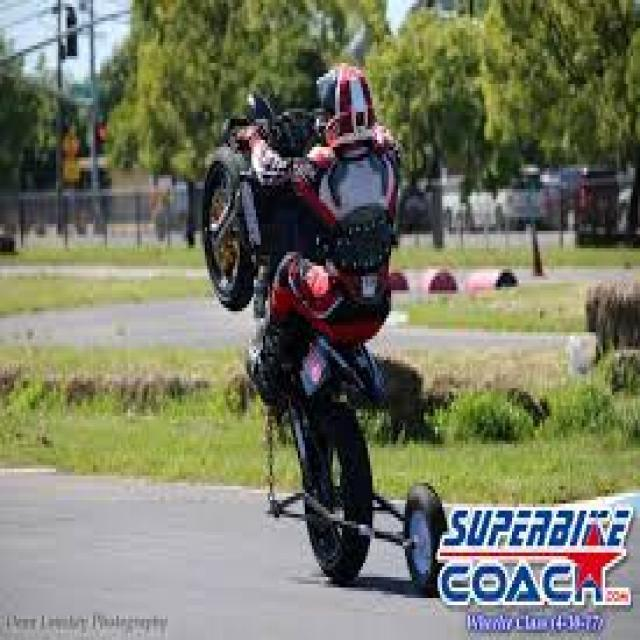Wheeling: (199, 58, 410, 586)
